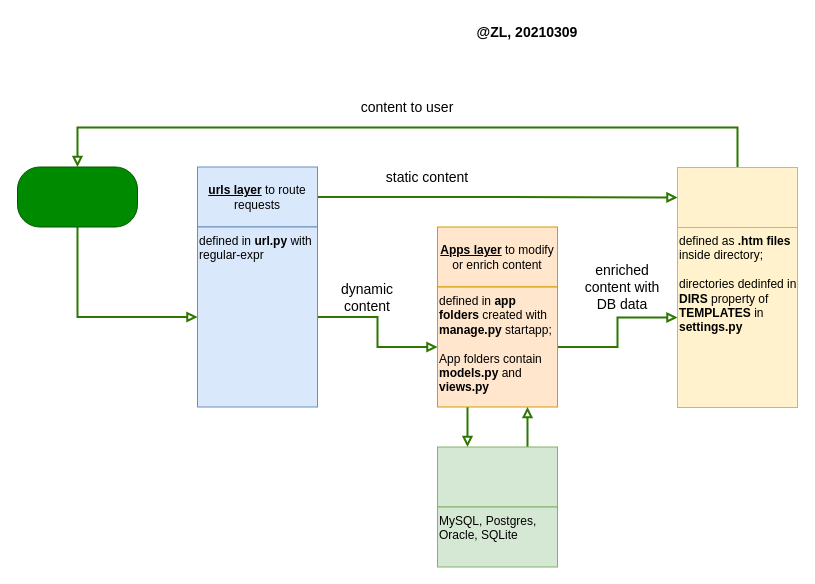
Image size: 815x584. Some labels were removed from this diagram. The shapes that lost their labels are listed below. From the top down, each one's centre as x and y in pixels, then its label:
(77,196): user requests
(737,197): template layer to structure content
(497,476): Database
